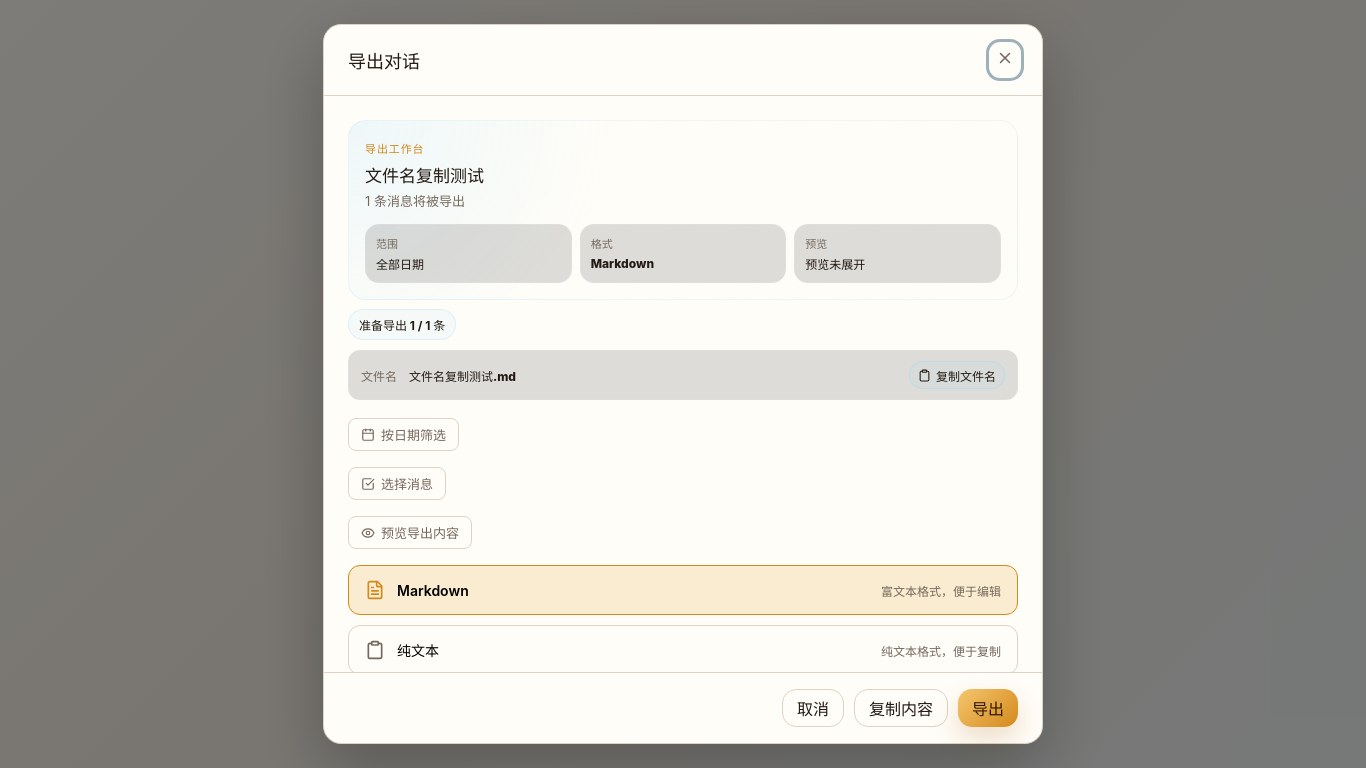
ExportModal › copies the current export filename with separate feedback
This screenshot has width=1366, height=768.
Click the button "复制文件名" at (957, 375), box [909,361,1005,389]
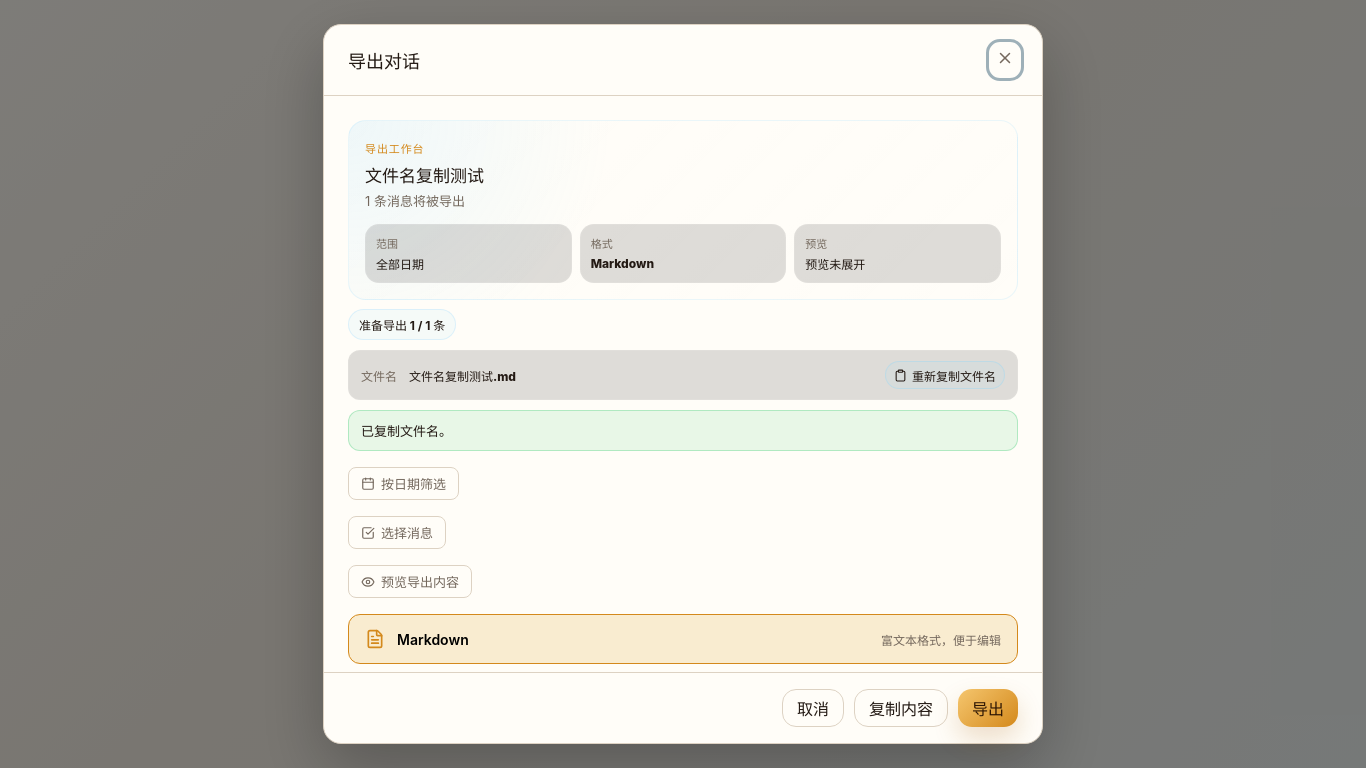
Expected: the text "已复制文件名。" is shown, [348,410,1018,451]
